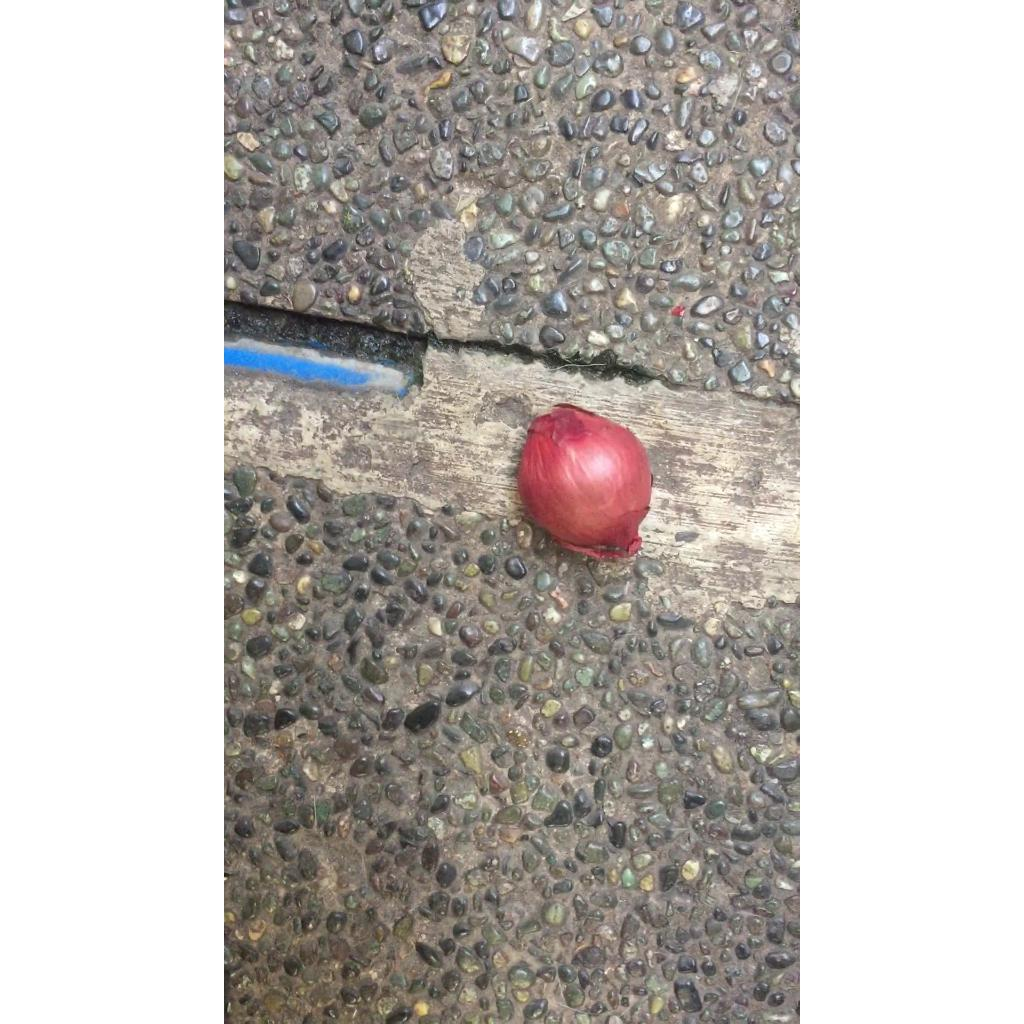Onion: (518, 404, 652, 558)
